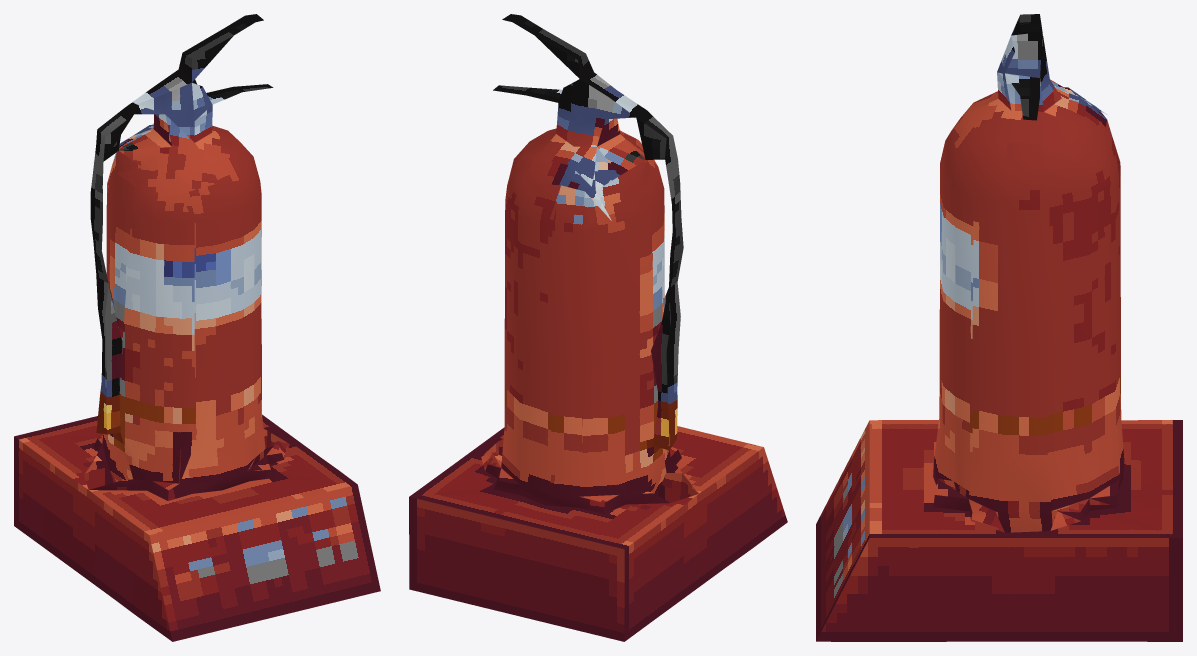
File: korean_fire_extinguisher_01.glb
3 views of the same model, side by side, from view 1: azimuth 30°, elevation 25°; view 2: azimuth 150°, elevation 25°; view 3: azimuth 270°, elevation 25° (orthographic). The views are drawn at different scales.
Parts seen in each view (by area): view 1: mesh; view 2: mesh; view 3: mesh.
Part boxes in pixels (bbox=[...]): mesh: bbox=[14, 14, 380, 641]; mesh: bbox=[409, 14, 787, 641]; mesh: bbox=[816, 14, 1182, 641].
Bounding box in the file's own units: 0.2806 × 0.6593 × 0.3683.
Materials: 1 (1 with a texture image).
